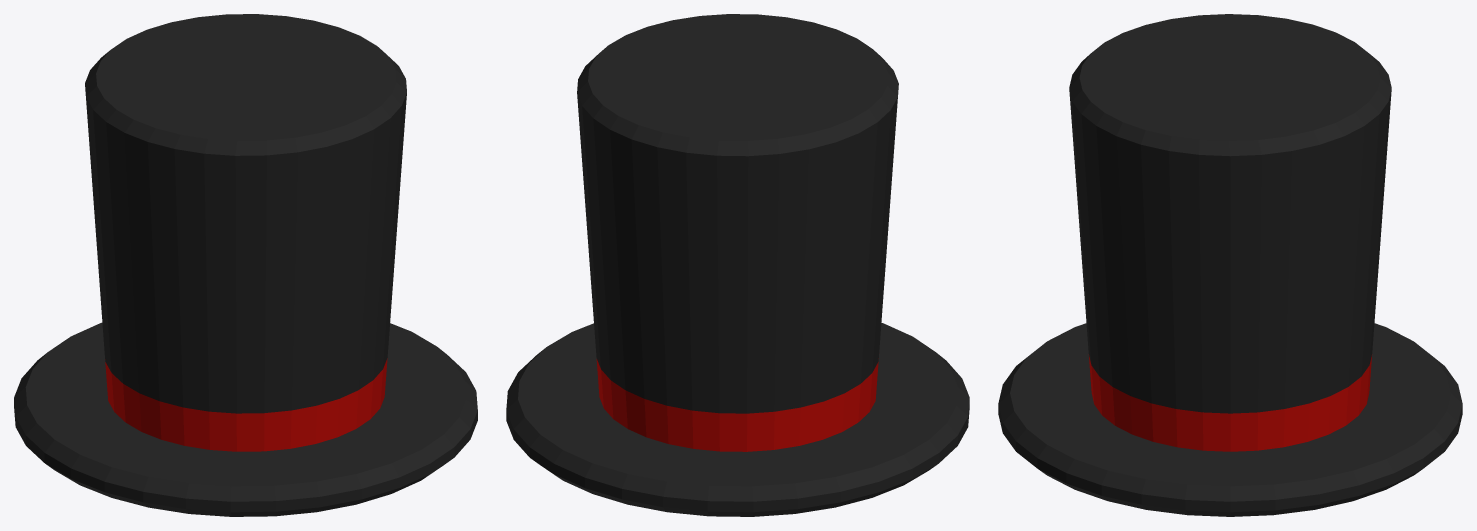
The model's file is gentleman_hat.glb.
3 views of the same model, side by side, from view 1: azimuth 30°, elevation 25°; view 2: azimuth 150°, elevation 25°; view 3: azimuth 270°, elevation 25° (orthographic).
Parts seen in each view (by area): view 1: Hat_HatsMaterial_0.001; view 2: Hat_HatsMaterial_0.001; view 3: Hat_HatsMaterial_0.001.
Boxes of the visible parts, x1=… form: Hat_HatsMaterial_0.001: x1=14, y1=14, x2=477, y2=516; Hat_HatsMaterial_0.001: x1=506, y1=14, x2=969, y2=516; Hat_HatsMaterial_0.001: x1=998, y1=14, x2=1462, y2=516.
Bounding box in the file's own units: 0.4 × 0.3291 × 0.4.
1 material, 1 textured.
